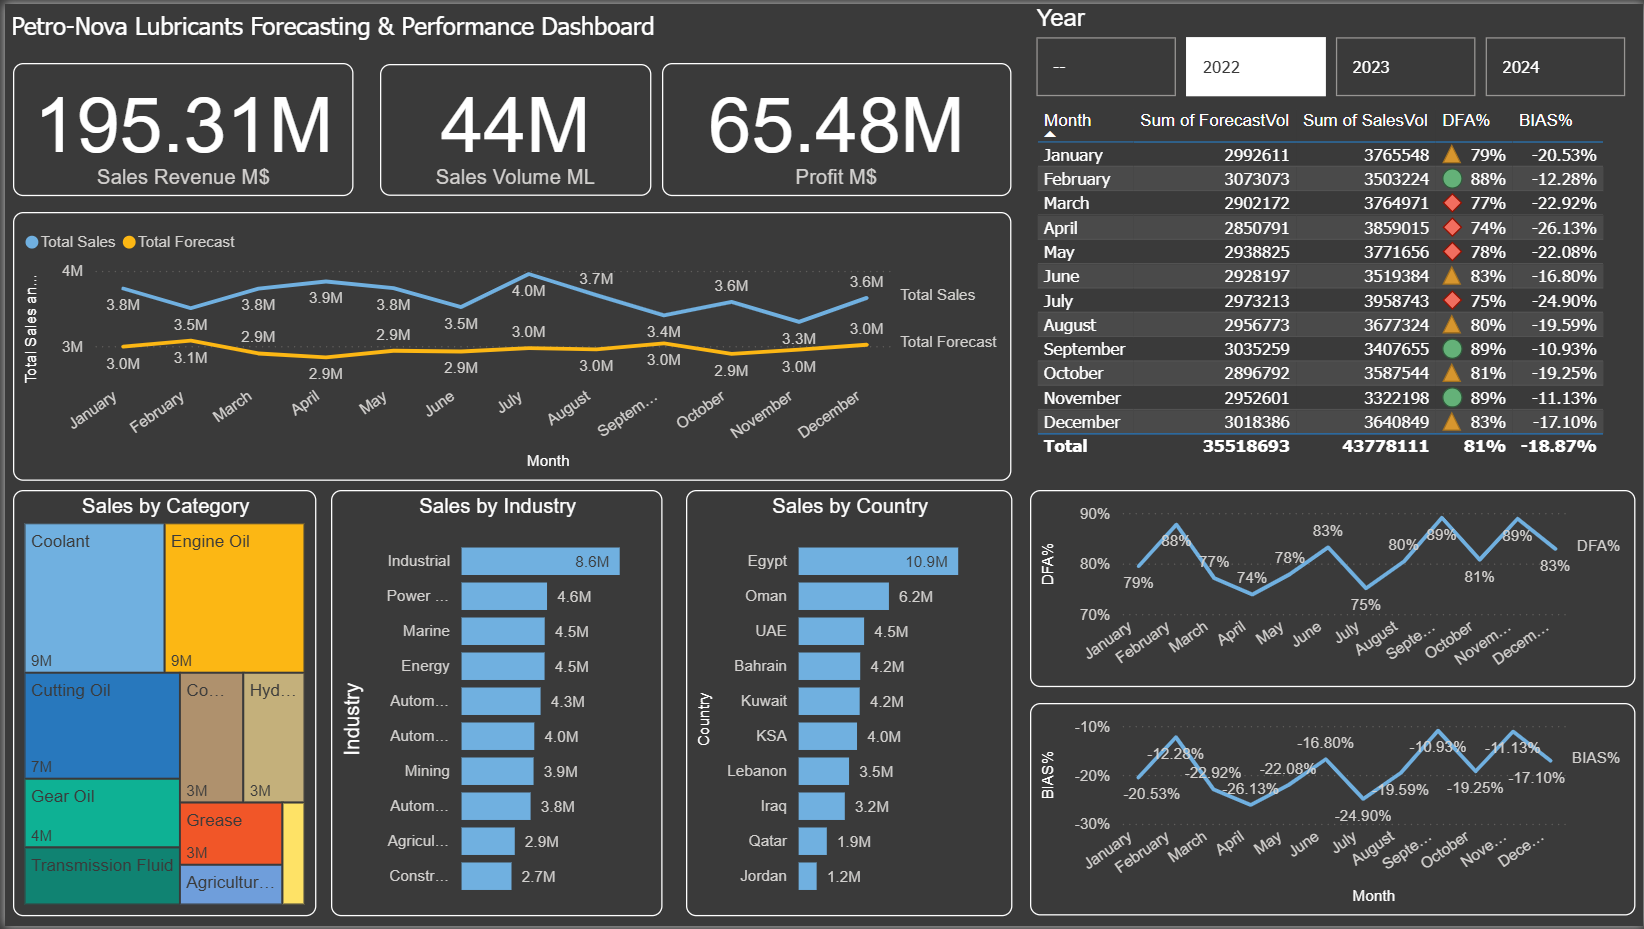

The page's visual inventory and layout, read from the dashboard file:
{"tool":"powerbi","page":{"name":"Page 1","canvas":[1280,720],"ordinal":0},"visuals":[{"type":"tableEx","fields":{"Values":["DateTable.Date.Variation.Date Hierarchy.Month","Sum(Demand.ForecastVol)","Sum(Sales.SalesVol)","Divide(Sales.DFA, ScopedEval(Sales.DFA, []))","Divide(Sales.BIAS, ScopedEval(Sales.BIAS, []))","select"]},"box":[800.8,77.3,473.4,295.3],"z":0},{"type":"advancedSlicerVisual","fields":{"Values":["DateTable.Date.Variation.Date Hierarchy.Year"]},"box":[800.8,0,473.4,77.3],"z":1000},{"type":"lineChart","fields":{"Category":["DateTable.Date.Variation.Date Hierarchy.Month"],"Y":["select","Sales.DFA%"]},"box":[800.8,379.7,473.4,153.9],"z":2000},{"type":"lineChart","fields":{"Category":["DateTable.Date.Variation.Date Hierarchy.Month"],"Y":["Sales.BIAS%","select"]},"box":[800.8,546.1,473.4,166.4],"z":3000},{"type":"lineChart","fields":{"Category":["DateTable.Date.Variation.Date Hierarchy.Month"],"Y":["select","Sales.Total Sales","Sales.Total Forecast"]},"box":[6.2,162.5,780.5,210.2],"z":4000},{"type":"textbox","box":[0,0,722.7,39.1],"z":5000},{"type":"clusteredBarChart","title":"Sales by Country","fields":{"Category":["Sales.Country"],"Y":["Sales.Total Sales"]},"box":[532,379.7,254.7,332.8],"z":6000},{"type":"clusteredBarChart","title":"Sales by Industry","fields":{"Category":["Master.Industry"],"Y":["Sales.Total Sales"]},"box":[254.7,379.7,258.6,332.8],"z":7000},{"type":"card","fields":{"Values":["Sum(Sales.Revenue)"]},"box":[6.2,46.1,266.4,103.9],"z":8000},{"type":"card","fields":{"Values":["Sum(Sales.SalesVol)"]},"box":[293,46.9,211.7,103.1],"z":9000},{"type":"card","title":"Profit","fields":{"Values":["Sales.Profit"]},"box":[513.3,46.1,272.7,103.9],"z":10000},{"type":"treemap","title":"Sales by Category","fields":{"Group":["Master.Category"],"Values":["Sales.Total Sales"]},"box":[6.2,379.7,236.7,332.8],"z":11000}]}

Visuals, with their boxes in screenshot pixels (x1, y1, x2, y2), scaled from the page's 1280x720 canvas onto the 1644x929 screenshot:
tableEx - DateTable.Date.Variation.Date Hierarchy.Month x Sum(Demand.ForecastVol): bbox(1029, 100, 1637, 481)
advancedSlicerVisual - DateTable.Date.Variation.Date Hierarchy.Year: bbox(1029, 0, 1637, 100)
lineChart - DateTable.Date.Variation.Date Hierarchy.Month x select: bbox(1029, 490, 1637, 688)
lineChart - DateTable.Date.Variation.Date Hierarchy.Month x Sales.BIAS%: bbox(1029, 705, 1637, 919)
lineChart - DateTable.Date.Variation.Date Hierarchy.Month x select: bbox(8, 210, 1010, 481)
textbox: bbox(0, 0, 928, 50)
"Sales by Country" clusteredBarChart: bbox(683, 490, 1010, 919)
"Sales by Industry" clusteredBarChart: bbox(327, 490, 659, 919)
card - Sum(Sales.Revenue): bbox(8, 59, 350, 194)
card - Sum(Sales.SalesVol): bbox(376, 61, 648, 194)
"Profit" card: bbox(659, 59, 1010, 194)
"Sales by Category" treemap: bbox(8, 490, 312, 919)
